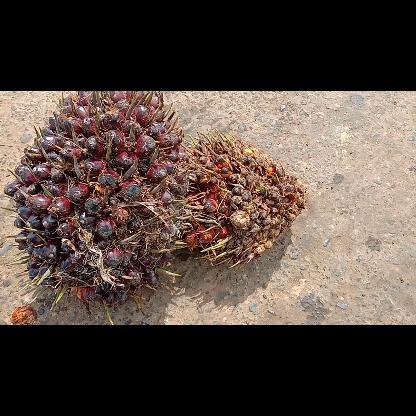Kurang masak: (0, 90, 192, 324)
TBS abnormal: (177, 128, 306, 268)
